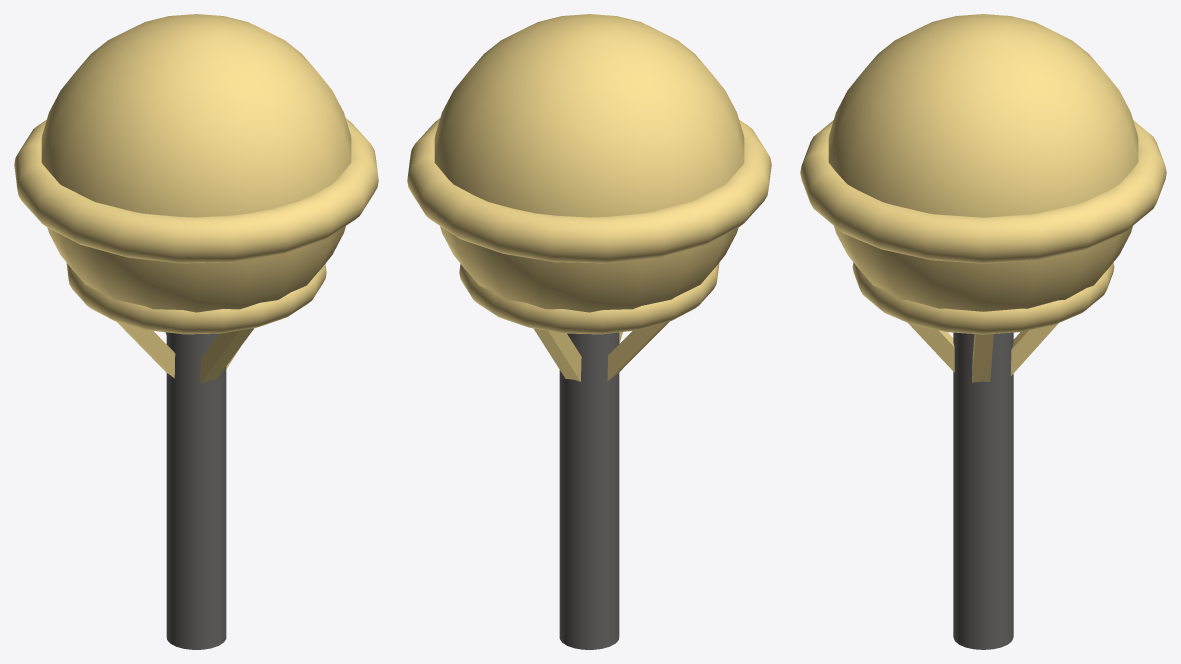
File: yellow.fbx
3 renders of one model, left to right at view 1: azimuth 30°, elevation 25°; view 2: azimuth 150°, elevation 25°; view 3: azimuth 270°, elevation 25°, orthographic.
Parts seen in each view (by area): view 1: Yellow; view 2: Yellow; view 3: Yellow.
Boxes of the visible parts, box(x1,y1,x2,y2) form: Yellow: box(14, 14, 378, 649); Yellow: box(407, 14, 771, 649); Yellow: box(800, 14, 1166, 649).
Bounding box in the file's own units: 12.42 × 22.78 × 12.42.
